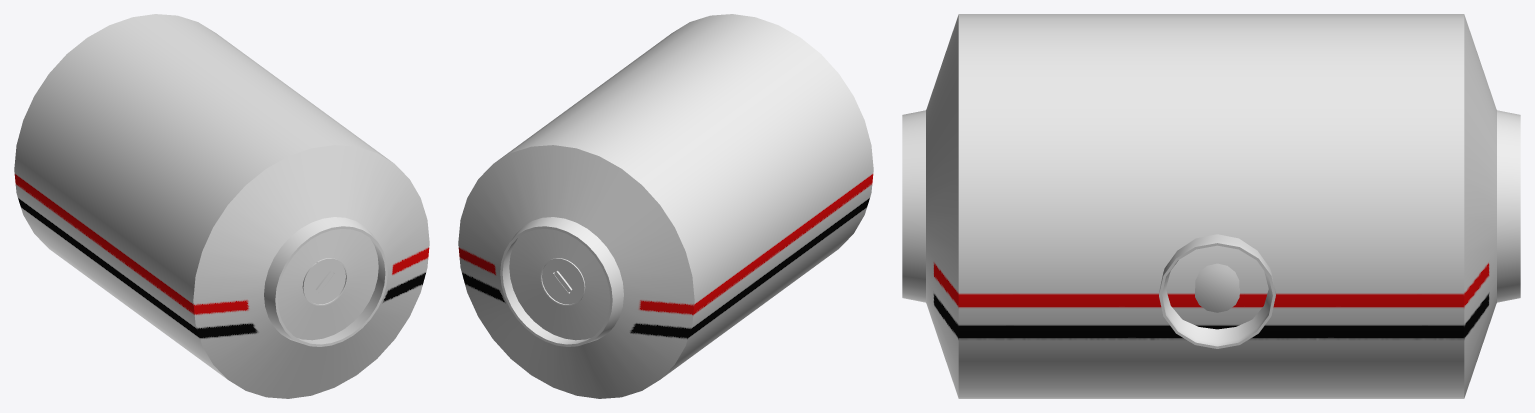
Rendered from Hygiene.glb.
3 views of the same model, side by side, from view 1: azimuth 30°, elevation 25°; view 2: azimuth 150°, elevation 25°; view 3: azimuth 270°, elevation 25° (orthographic). The views are drawn at different scales.
Parts seen in each view (by area): view 1: Hygine outer.001; view 2: Hygine outer.001; view 3: Hygine outer.001.
Part boxes in pixels (left/top/right/bottom): Hygine outer.001: left=14, top=14, right=429, bottom=398; Hygine outer.001: left=458, top=14, right=873, bottom=398; Hygine outer.001: left=902, top=14, right=1520, bottom=398.
Bounding box in the file's own units: 2.02 × 1.94 × 3.11.
1 material, 1 textured.
